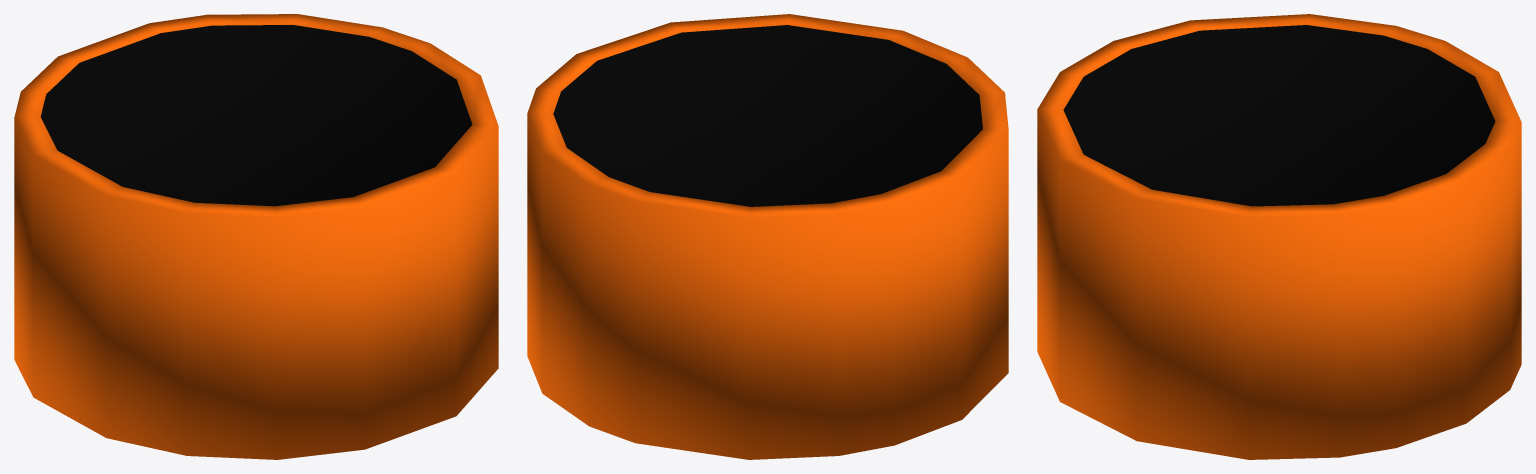
The model's file is Pot_1 - Proxy.fbx.
The picture shows the model from 3 angles, left to right: view 1: azimuth 30°, elevation 25°; view 2: azimuth 150°, elevation 25°; view 3: azimuth 270°, elevation 25°; orthographic projection.
Parts seen in each view (by area): view 1: Pot_1; view 2: Pot_1; view 3: Pot_1.
Boxes of the visible parts, bbox=[...] form: Pot_1: bbox=[14, 14, 498, 459]; Pot_1: bbox=[527, 14, 1008, 459]; Pot_1: bbox=[1037, 14, 1521, 459].
Size of the model in its own units: 24.71 by 13.74 by 24.86.
